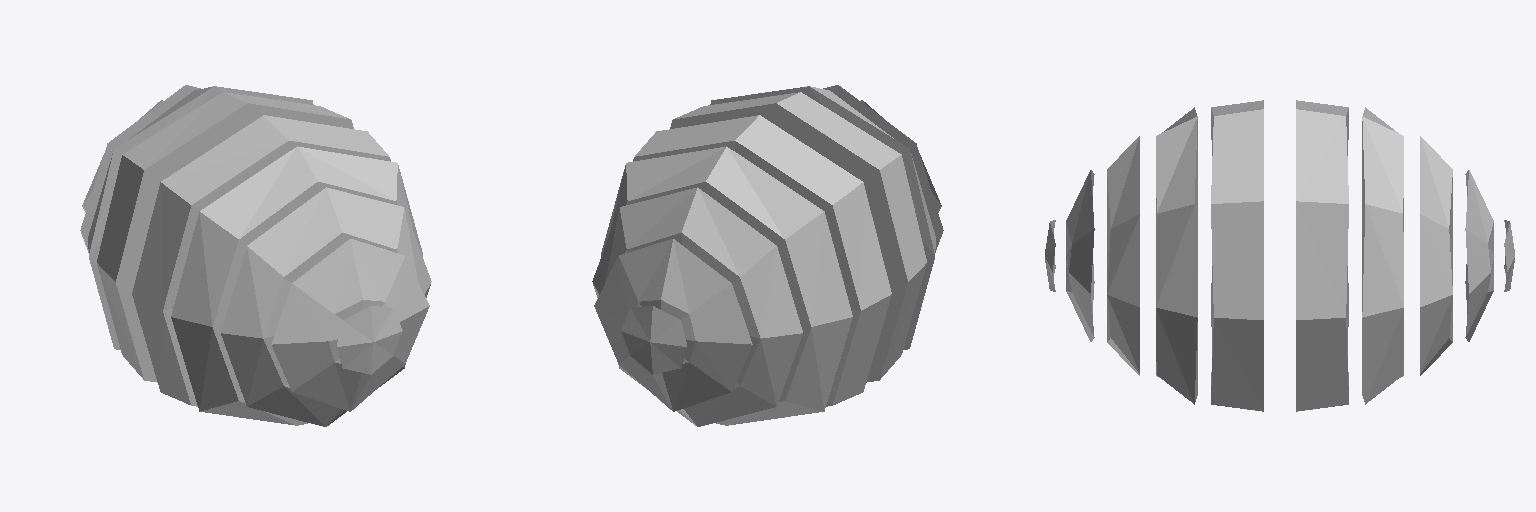
File: chopped_sphere.obj
3 views of the same model, side by side, from view 1: azimuth 30°, elevation 25°; view 2: azimuth 150°, elevation 25°; view 3: azimuth 270°, elevation 25° (orthographic).
Parts seen in each view (by area): view 1: fully_chopped.002_Cube.004, fully_chopped.003_Cube.006, fully_chopped.001_Cube.005, fully_chopped.005_Cube.008, fully_chopped.007_Cube.010, fully_chopped.006_Cube.009, fully_chopped.004_Cube.007, fully_chopped.008_Cube.011; view 2: fully_chopped.006_Cube.009, fully_chopped.008_Cube.011, fully_chopped.007_Cube.010, fully_chopped.010_Cube.013, fully_chopped.001_Cube.005, fully_chopped.002_Cube.004, fully_chopped.009_Cube.012, fully_chopped.003_Cube.006; view 3: fully_chopped.001_Cube.005, fully_chopped.007_Cube.010, fully_chopped.002_Cube.004, fully_chopped.006_Cube.009, fully_chopped.003_Cube.006, fully_chopped.008_Cube.011, fully_chopped.005_Cube.008, fully_chopped.010_Cube.013, fully_chopped.004_Cube.007, fully_chopped.009_Cube.012.
Boxes of the visible parts, x1=… form: fully_chopped.002_Cube.004: x1=171, y1=146, x2=422, y2=425; fully_chopped.003_Cube.006: x1=221, y1=187, x2=431, y2=426; fully_chopped.001_Cube.005: x1=132, y1=115, x2=390, y2=406; fully_chopped.005_Cube.008: x1=271, y1=239, x2=429, y2=411; fully_chopped.007_Cube.010: x1=97, y1=92, x2=353, y2=382; fully_chopped.006_Cube.009: x1=88, y1=86, x2=313, y2=349; fully_chopped.004_Cube.007: x1=336, y1=306, x2=402, y2=374; fully_chopped.008_Cube.011: x1=80, y1=85, x2=200, y2=252; fully_chopped.006_Cube.009: x1=601, y1=146, x2=852, y2=425; fully_chopped.008_Cube.011: x1=592, y1=187, x2=802, y2=426; fully_chopped.007_Cube.010: x1=633, y1=115, x2=891, y2=406; fully_chopped.010_Cube.013: x1=594, y1=239, x2=752, y2=411; fully_chopped.001_Cube.005: x1=670, y1=92, x2=926, y2=382; fully_chopped.002_Cube.004: x1=710, y1=86, x2=935, y2=349; fully_chopped.009_Cube.012: x1=621, y1=306, x2=687, y2=374; fully_chopped.003_Cube.006: x1=823, y1=85, x2=943, y2=252; fully_chopped.001_Cube.005: x1=1211, y1=100, x2=1263, y2=411; fully_chopped.007_Cube.010: x1=1296, y1=100, x2=1348, y2=411; fully_chopped.002_Cube.004: x1=1156, y1=107, x2=1197, y2=404; fully_chopped.006_Cube.009: x1=1362, y1=107, x2=1403, y2=404; fully_chopped.003_Cube.006: x1=1107, y1=136, x2=1139, y2=375; fully_chopped.008_Cube.011: x1=1420, y1=136, x2=1452, y2=375; fully_chopped.005_Cube.008: x1=1066, y1=170, x2=1094, y2=341; fully_chopped.010_Cube.013: x1=1465, y1=170, x2=1493, y2=341; fully_chopped.004_Cube.007: x1=1045, y1=220, x2=1055, y2=291; fully_chopped.009_Cube.012: x1=1504, y1=220, x2=1514, y2=291.
Size of the model in its own units: 1.88 by 2 by 2.91.